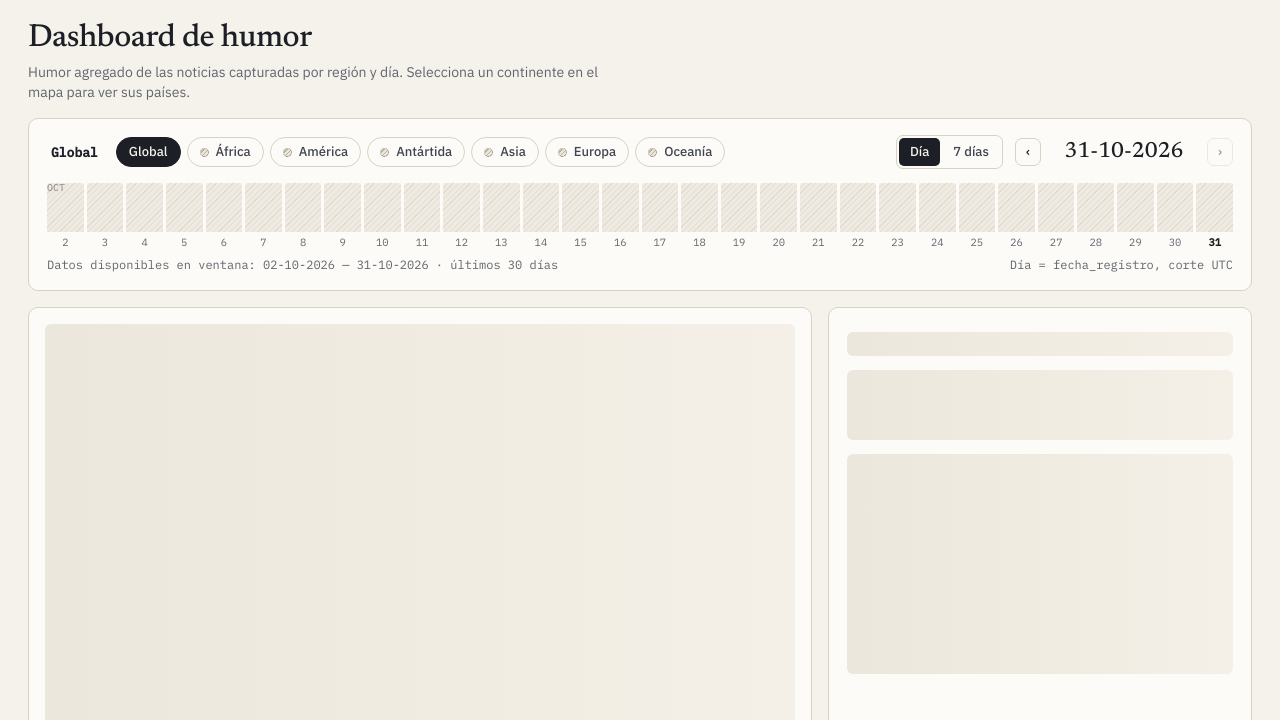
Scenario: DashboardPage › shows country dropdown when a continent chip is selected
This screenshot has width=1280, height=720.
Note: Use regex to find the chip for America/América
Click the button "América".
click(315, 152)  # box [270,137,361,167]
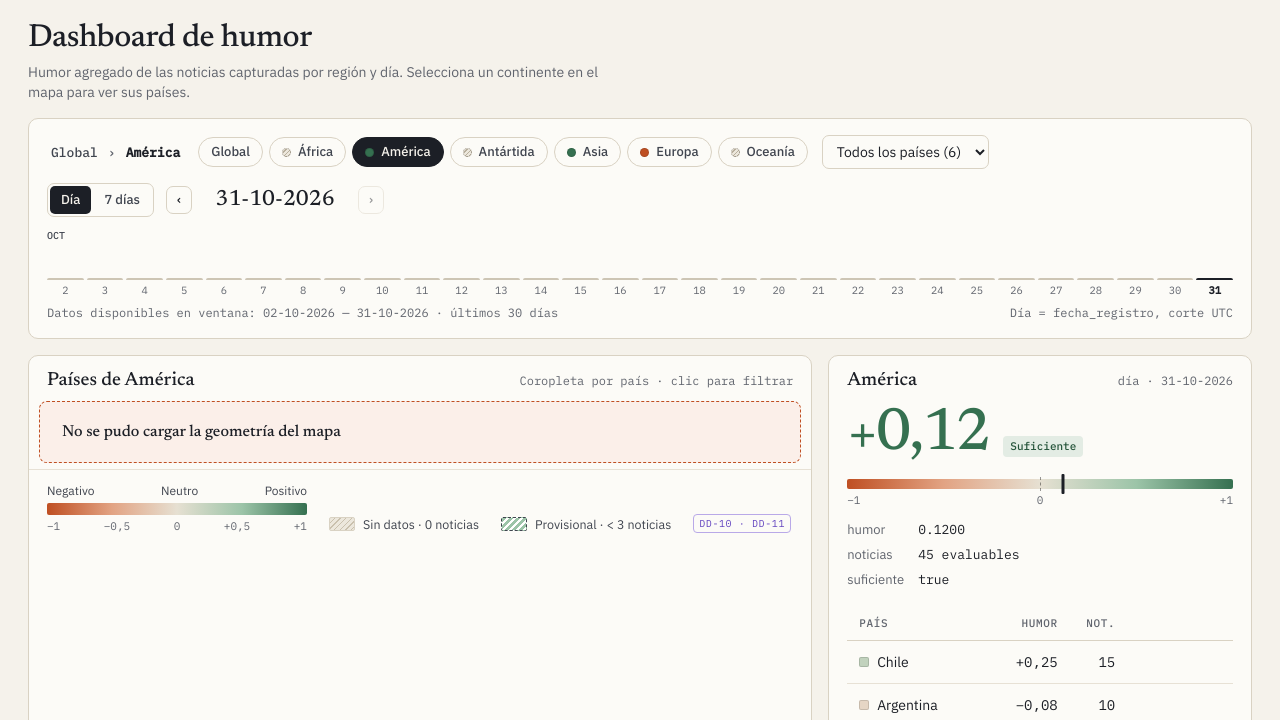
Expected: the dropdown named "País" is shown, [822,135,989,169]
